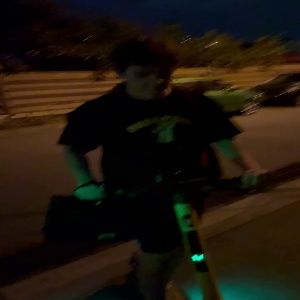human on a scooter: (41, 30, 272, 300)
